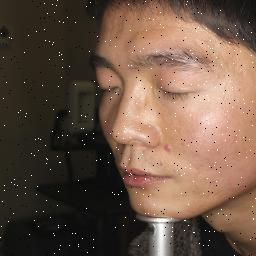ance: (198, 144, 222, 168), (204, 176, 222, 192), (160, 140, 176, 156), (212, 72, 224, 84), (238, 68, 248, 80), (160, 160, 166, 168)
